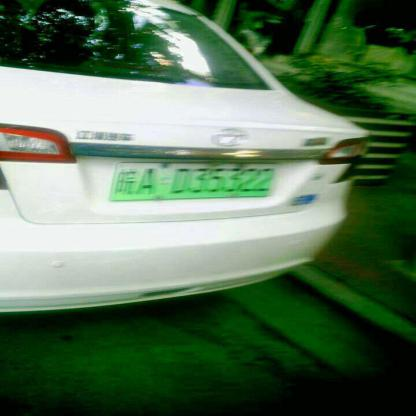lp: (112, 164, 274, 200)
